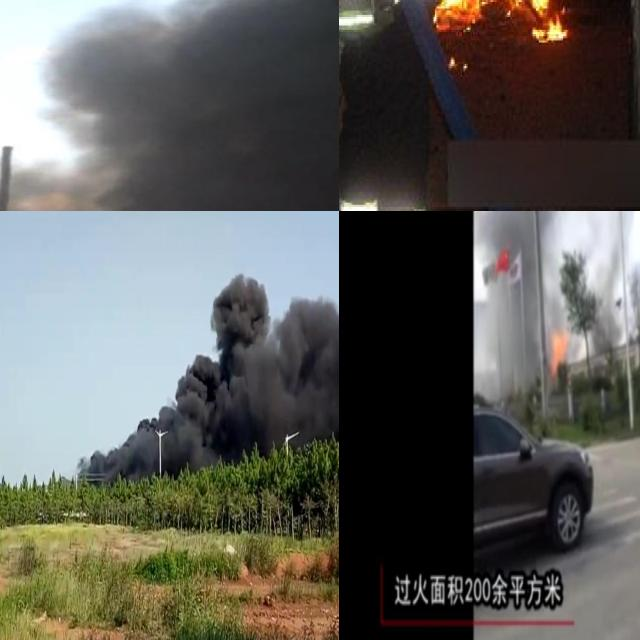fire: (548, 327, 568, 369)
smoke: (0, 0, 339, 211), (86, 211, 339, 478), (474, 211, 635, 396)
